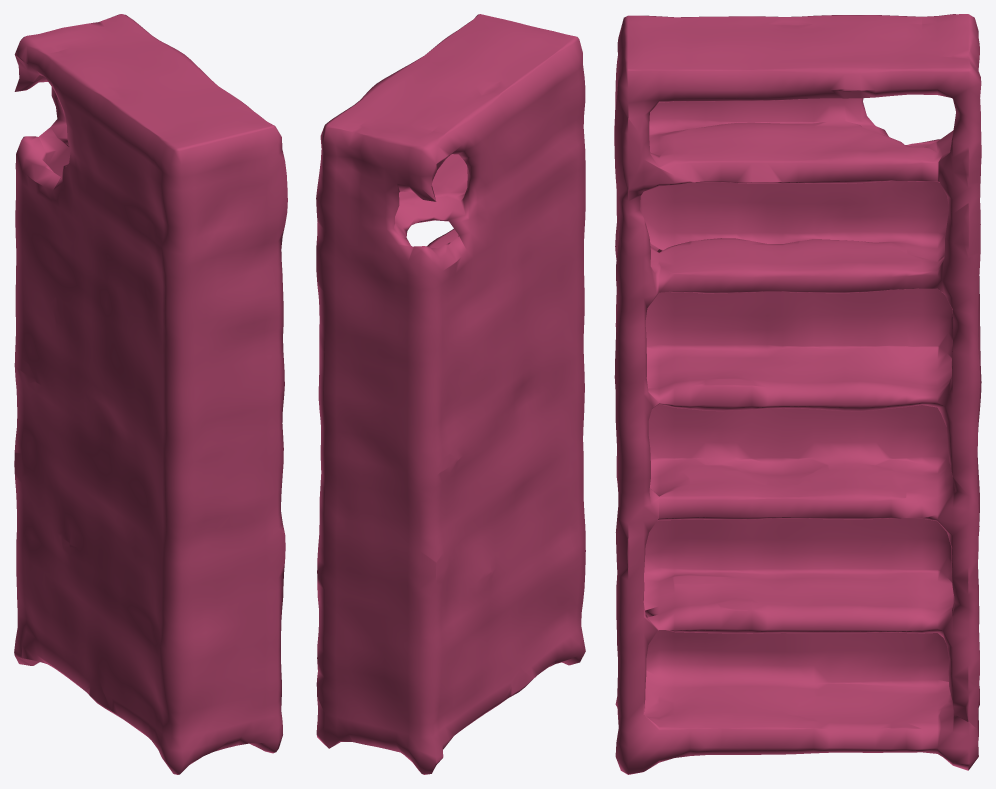
The model's file is wardrobe_13_5.obj.
The picture shows the model from 3 angles, left to right: view 1: azimuth 30°, elevation 25°; view 2: azimuth 150°, elevation 25°; view 3: azimuth 270°, elevation 25°; orthographic projection. The views are drawn at different scales.
Bounding box in the file's own units: 0.1608 × 0.7902 × 0.3713.
